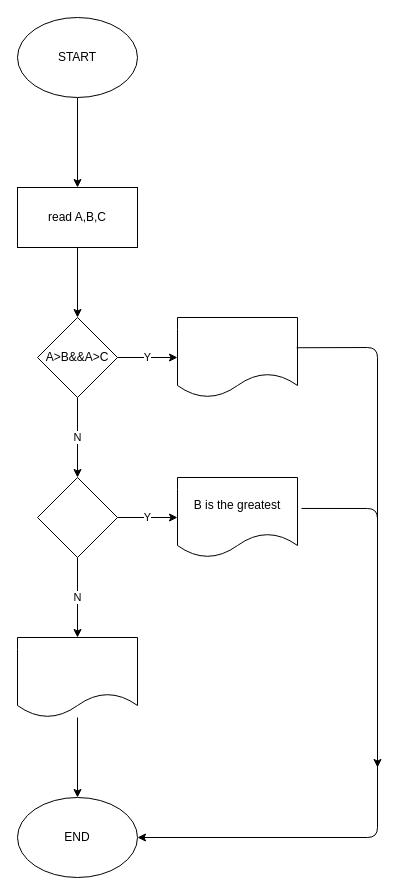
This 403x895 diagram has some shape labels left out. The centre of each missing label's shape, as x and y in pixels:
A is the greatest: (x=237, y=357)
B>A&&B>C: (x=77, y=517)
C is the greatest: (x=77, y=677)
